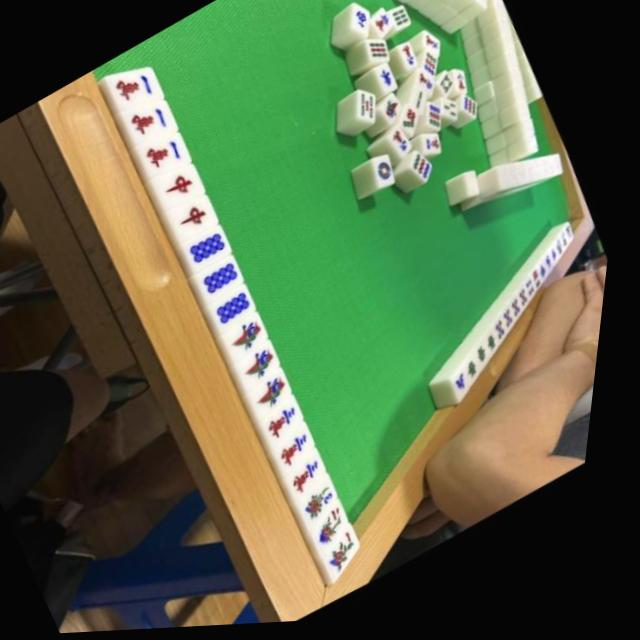bf3: (312, 481, 363, 526)
bs1: (335, 527, 392, 579)
bs2: (322, 505, 375, 552)
hdr: (173, 196, 231, 247), (160, 166, 214, 214)
sb1: (244, 342, 302, 392), (230, 315, 286, 364), (258, 372, 314, 421)
sc1: (142, 130, 202, 184), (125, 97, 185, 151), (108, 64, 166, 118)
sc3: (272, 401, 326, 448), (285, 428, 340, 474), (299, 457, 351, 501)
sd8: (201, 256, 260, 307), (189, 227, 245, 276), (217, 288, 273, 336)
